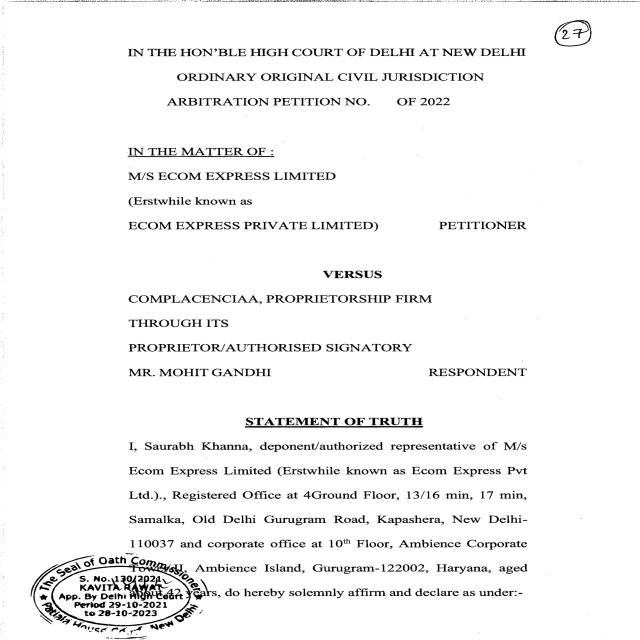page-number: (533, 7, 638, 126)
